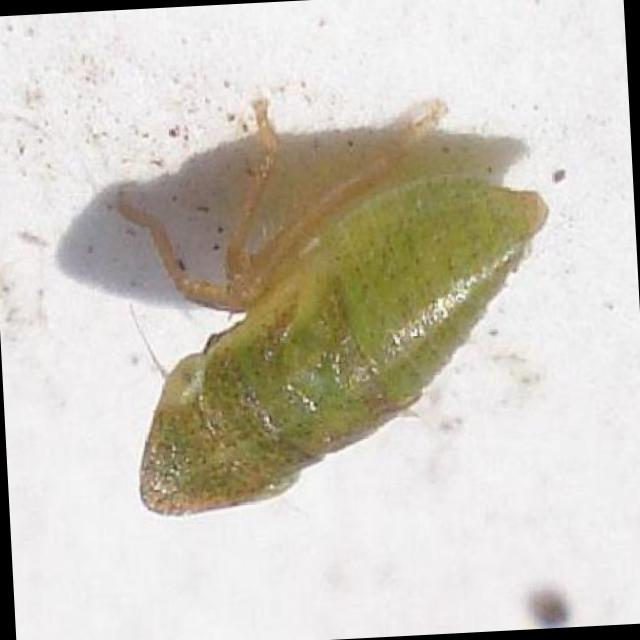green-leafhopper: (116, 95, 554, 512)
